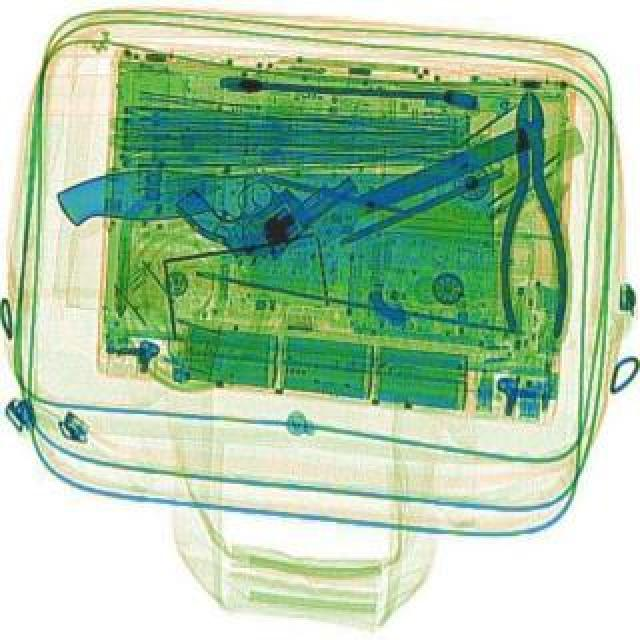gun: (170, 116, 362, 288)
knife: (240, 128, 534, 276), (56, 176, 456, 230)
wrench: (494, 94, 566, 340)
